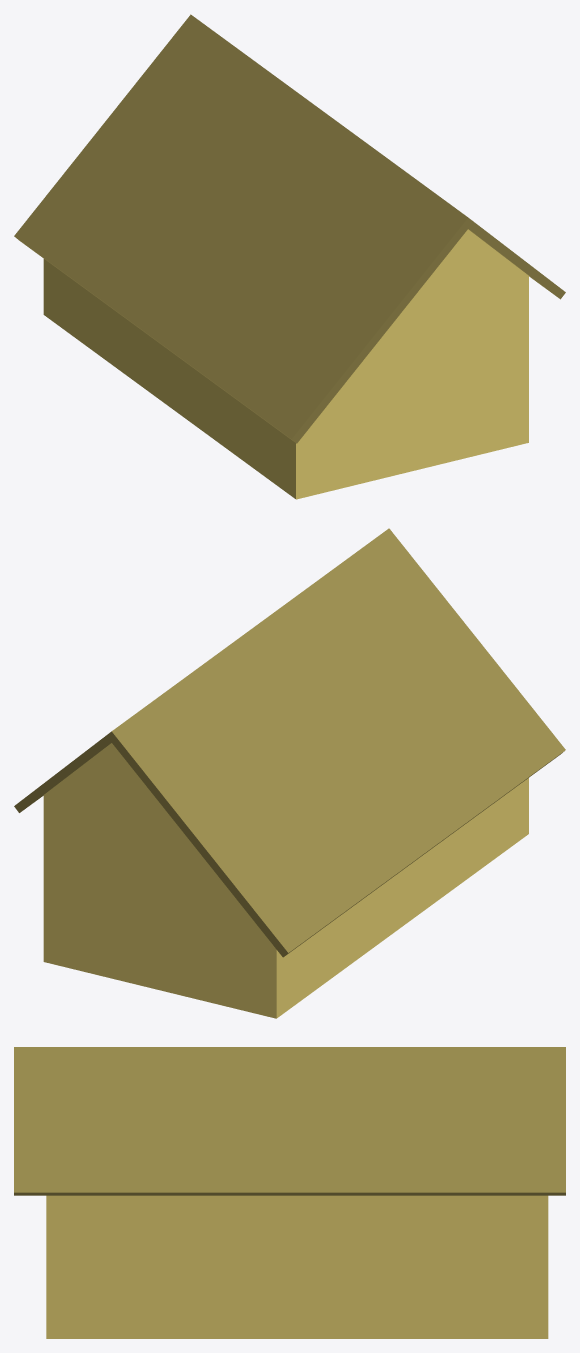
File: result.glb
3 renders of one model, top to bottom at view 1: azimuth 30°, elevation 25°; view 2: azimuth 150°, elevation 25°; view 3: azimuth 270°, elevation 25°, orthographic.
Parts seen in each view (by area): view 1: 40ebaa7e-fef7-45e9-9407-f4b7c1e88d78__undefined (×2), c8cdec16-1954-48d0-842e-aa995855beed__undefined; view 2: 40ebaa7e-fef7-45e9-9407-f4b7c1e88d78__undefined (×2), c8cdec16-1954-48d0-842e-aa995855beed__undefined; view 3: 40ebaa7e-fef7-45e9-9407-f4b7c1e88d78__undefined, c8cdec16-1954-48d0-842e-aa995855beed__undefined.
Boxes of the visible parts, x1,y1,x2,y2 form: 40ebaa7e-fef7-45e9-9407-f4b7c1e88d78__undefined (×2): (14,14,565,443); c8cdec16-1954-48d0-842e-aa995855beed__undefined: (43,229,528,499); 40ebaa7e-fef7-45e9-9407-f4b7c1e88d78__undefined (×2): (14,528,565,957); c8cdec16-1954-48d0-842e-aa995855beed__undefined: (43,743,528,1018); 40ebaa7e-fef7-45e9-9407-f4b7c1e88d78__undefined: (14,1047,565,1195); c8cdec16-1954-48d0-842e-aa995855beed__undefined: (46,1195,548,1338).
Bounding box in the file's own units: 888 × 791 × 1555.
